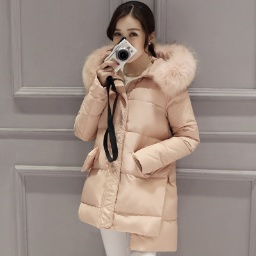face: (100, 1, 161, 69)
